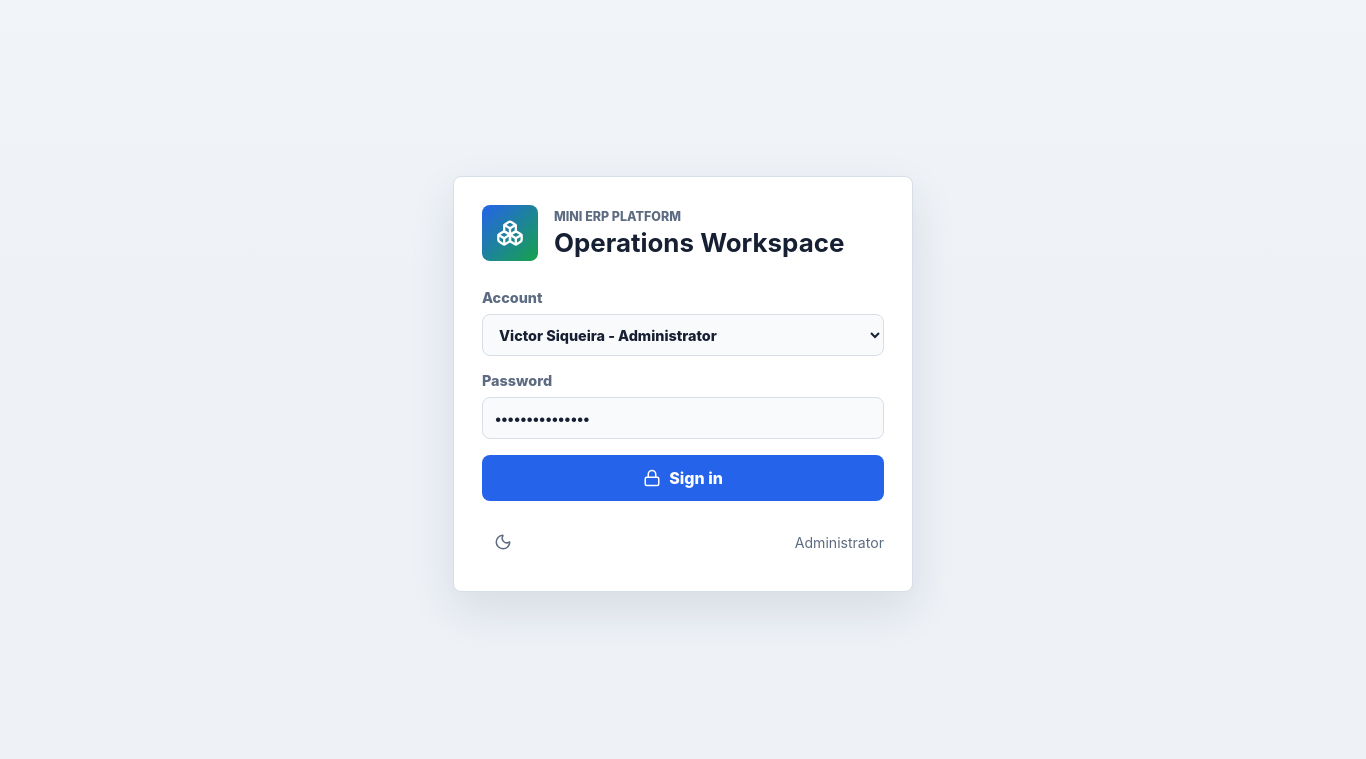
Test: App › filters customer records from the global search
Click the button "Sign in" at (683, 478), box x1=482 y1=455 x2=884 y2=501
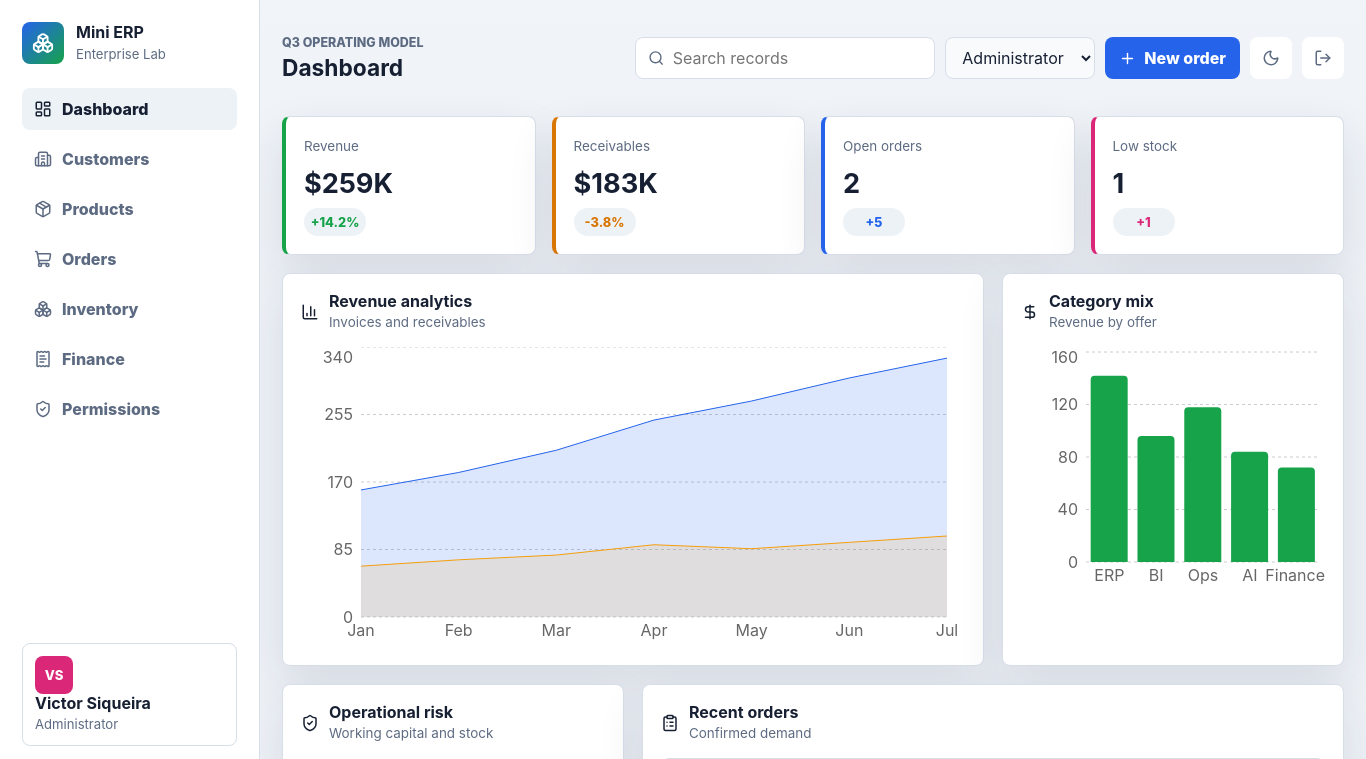
Click the button "Customers" at (130, 159), box x1=22 y1=138 x2=237 y2=180
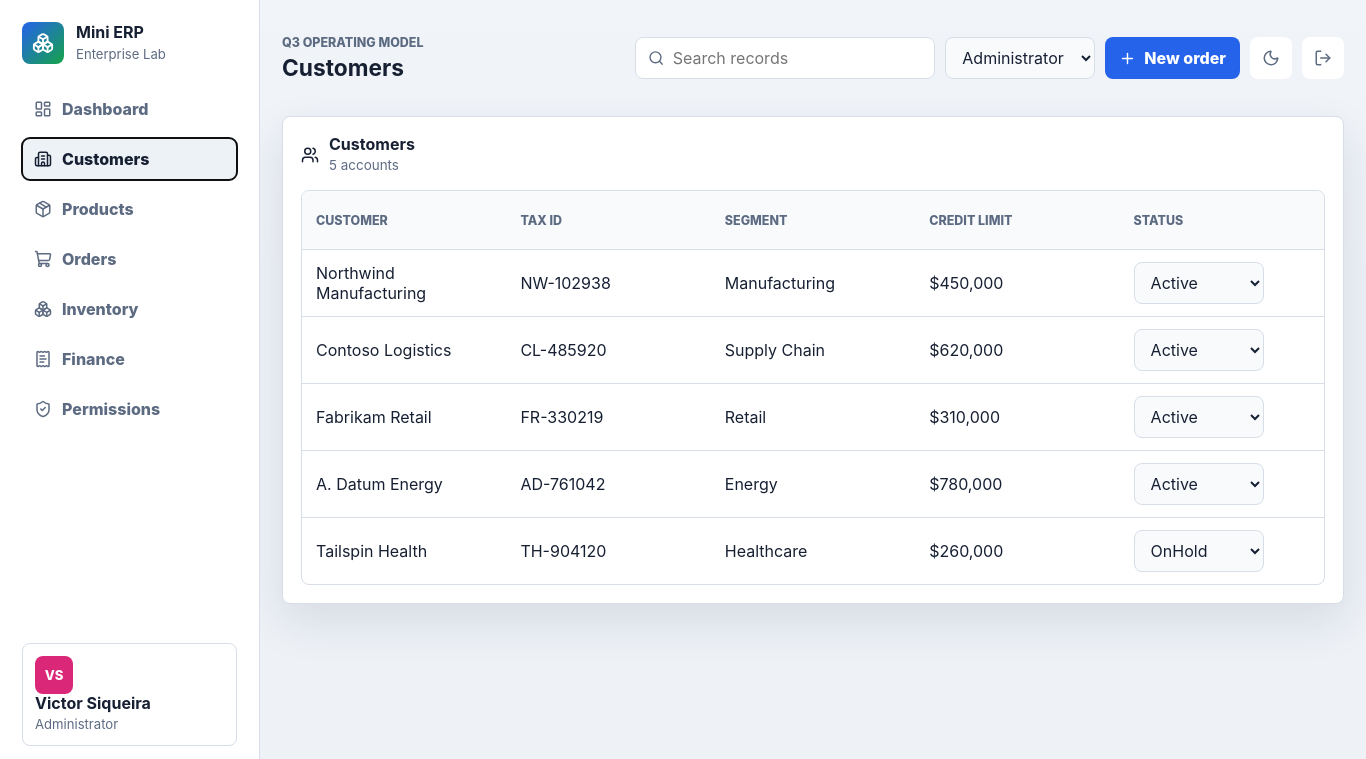
Type "contoso" into the field named "search workspace" at (798, 58), box x1=673 y1=48 x2=922 y2=68
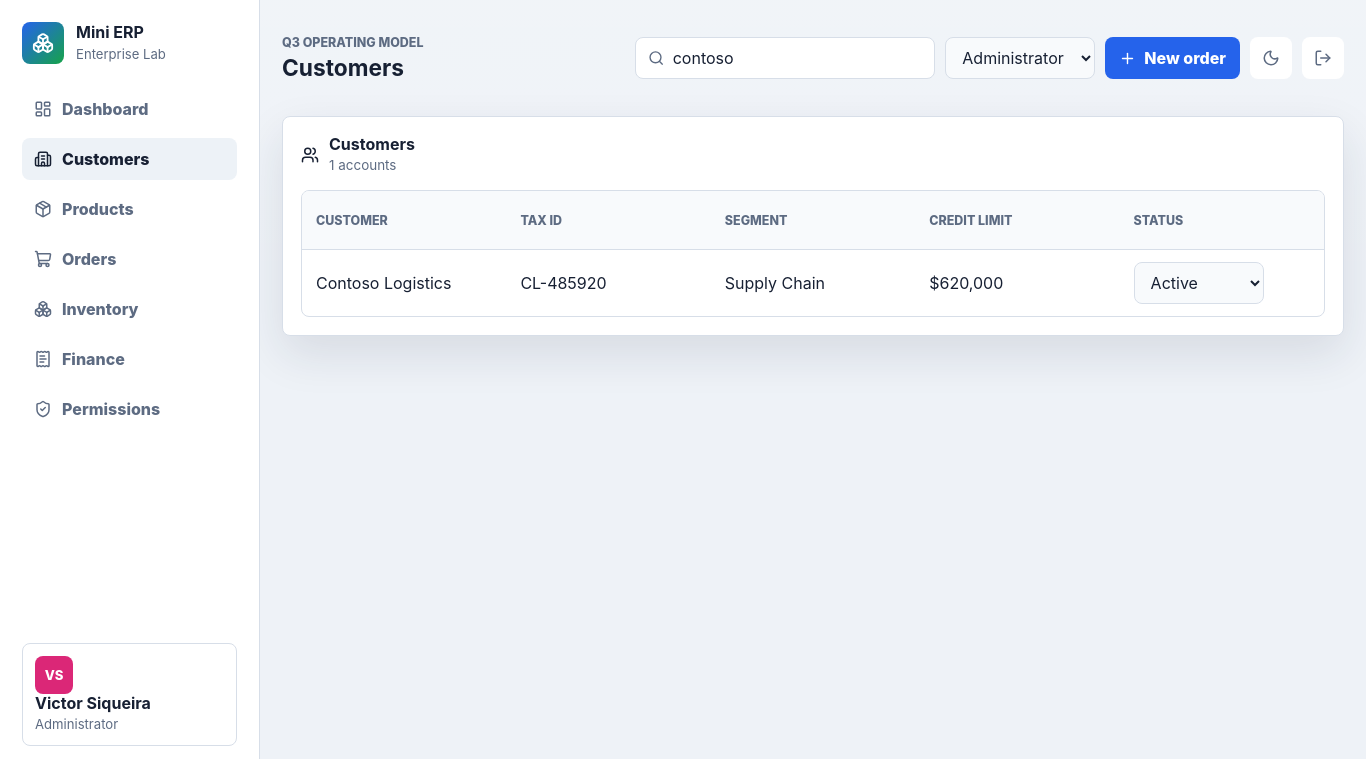
Expected: the text "Contoso Logistics" is shown, x1=316 y1=273 x2=451 y2=293
Expected: the text "Northwind Manufacturing" is gone
